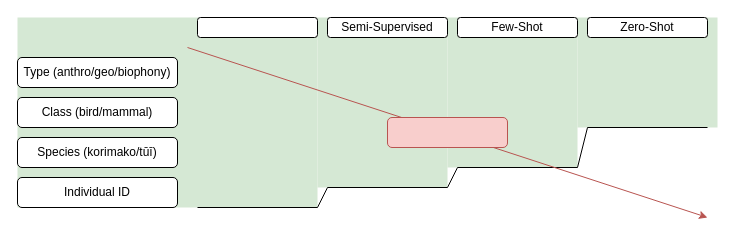
This 735x243 diagram has some shape labels left out. Here are the shapes that lost their labels. From the top down, the box of each, then its label:
(196, 16, 318, 38): Supervised
(386, 116, 508, 148): Difficulty increase
